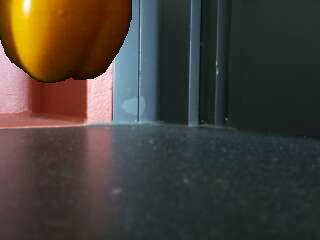Capsicum: (0, 0, 131, 81)
